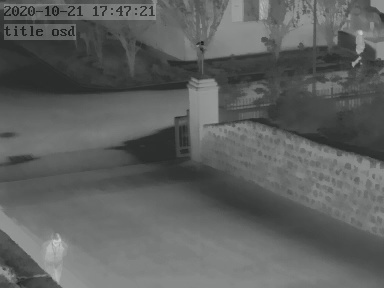person: (42, 231, 67, 287), (352, 28, 368, 62)
